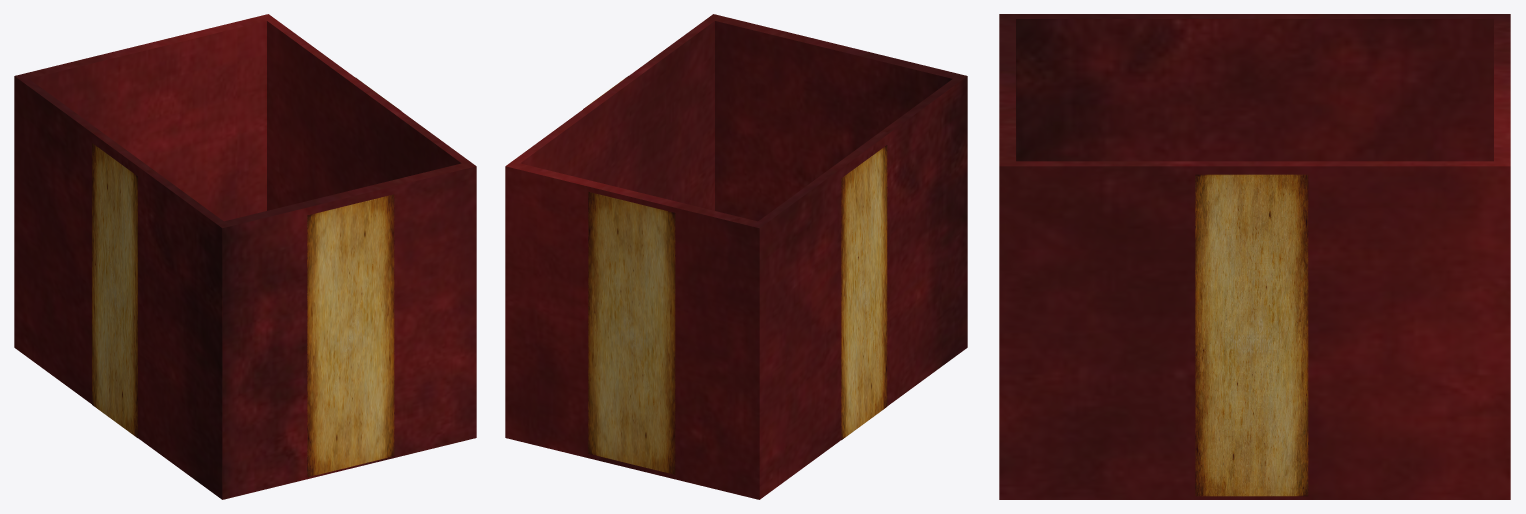
The model's file is CajaDeRegalo.obj.
3 renders of one model, left to right at view 1: azimuth 30°, elevation 25°; view 2: azimuth 150°, elevation 25°; view 3: azimuth 270°, elevation 25°, orthographic. The views are drawn at different scales.
Visible parts, largest first — view 1: caja_Cubo.004, Plano.013, Plano.012; view 2: caja_Cubo.004, Plano.011, Plano.012; view 3: caja_Cubo.004, Plano.010.
Boxes of the visible parts, x1=… form: caja_Cubo.004: x1=14, y1=14, x2=476, y2=499; Plano.013: x1=307, y1=194, x2=394, y2=477; Plano.012: x1=92, y1=143, x2=137, y2=437; caja_Cubo.004: x1=505, y1=14, x2=967, y2=499; Plano.011: x1=588, y1=192, x2=675, y2=474; Plano.012: x1=841, y1=145, x2=887, y2=439; caja_Cubo.004: x1=999, y1=14, x2=1510, y2=499; Plano.010: x1=1195, y1=174, x2=1308, y2=496.
Bounding box in the file's own units: 0.7858 × 0.7815 × 1.09.
2 materials, 2 textured.
